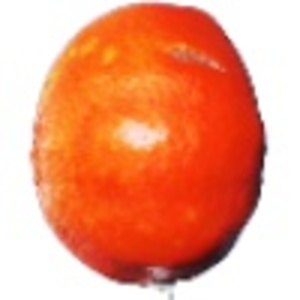tangerina: (27, 2, 270, 288)
